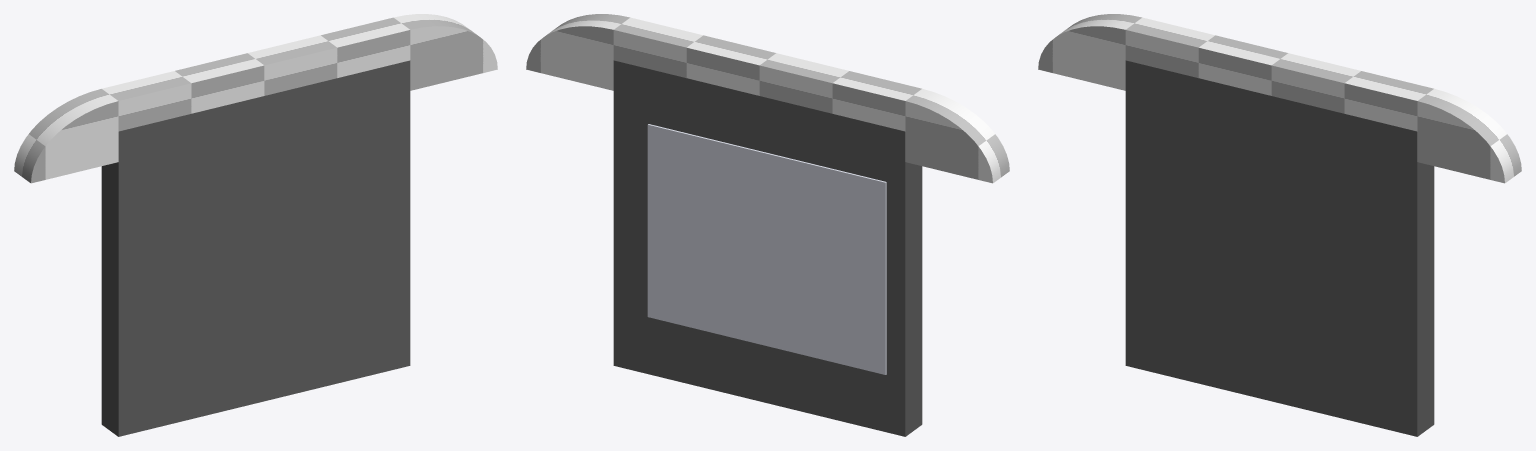
Rendered from GameCartridge.fbx.
3 renders of one model, left to right at view 1: azimuth 30°, elevation 25°; view 2: azimuth 150°, elevation 25°; view 3: azimuth 330°, elevation 25°, orthographic.
Parts seen in each view (by area): view 1: mergedBlocks; view 2: mergedBlocks; view 3: mergedBlocks.
Boxes of the visible parts, <box> form: mergedBlocks: <box>14,14,497,436</box>; mergedBlocks: <box>526,14,1009,436</box>; mergedBlocks: <box>1038,14,1521,436</box>.
Bounding box in the file's own units: 16 × 11 × 1.06.
3 materials, 1 textured.
